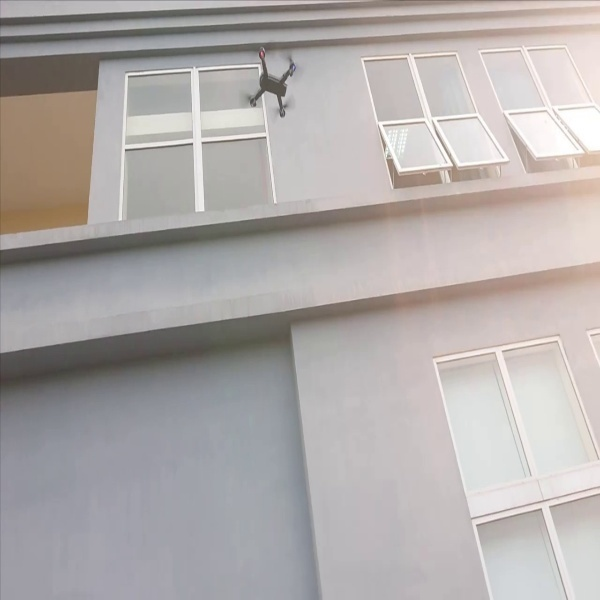drone: (236, 36, 307, 122)
